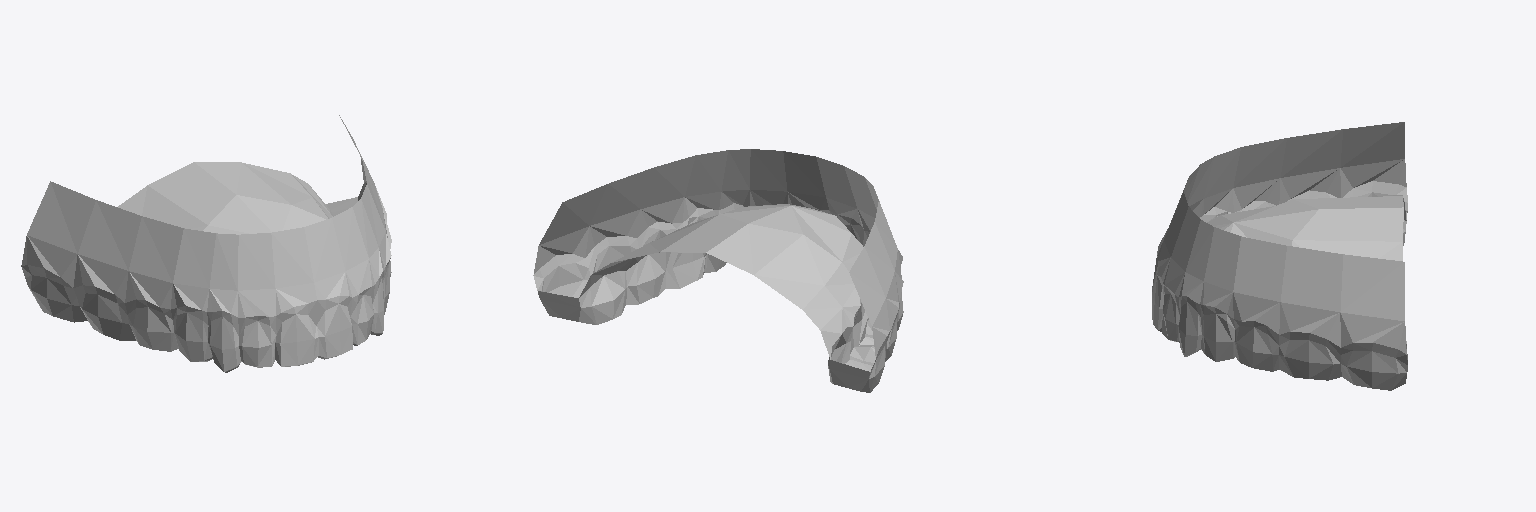
The model's file is Uth_Teeth_Up_MshShape.obj.
3 views of the same model, side by side, from view 1: azimuth 30°, elevation 25°; view 2: azimuth 150°, elevation 25°; view 3: azimuth 270°, elevation 25° (orthographic).
Parts seen in each view (by area): view 1: Uth_Teeth_Up_Msh Head_Grp SkinnedMesh Mesh CharacterRoot; view 2: Uth_Teeth_Up_Msh Head_Grp SkinnedMesh Mesh CharacterRoot; view 3: Uth_Teeth_Up_Msh Head_Grp SkinnedMesh Mesh CharacterRoot.
Part boxes in pixels (x1,y1,x2,y2): Uth_Teeth_Up_Msh Head_Grp SkinnedMesh Mesh CharacterRoot: (21, 115, 391, 372); Uth_Teeth_Up_Msh Head_Grp SkinnedMesh Mesh CharacterRoot: (533, 149, 903, 392); Uth_Teeth_Up_Msh Head_Grp SkinnedMesh Mesh CharacterRoot: (1152, 122, 1407, 390).
Size of the model in its own units: 8.79 by 3.15 by 5.7.